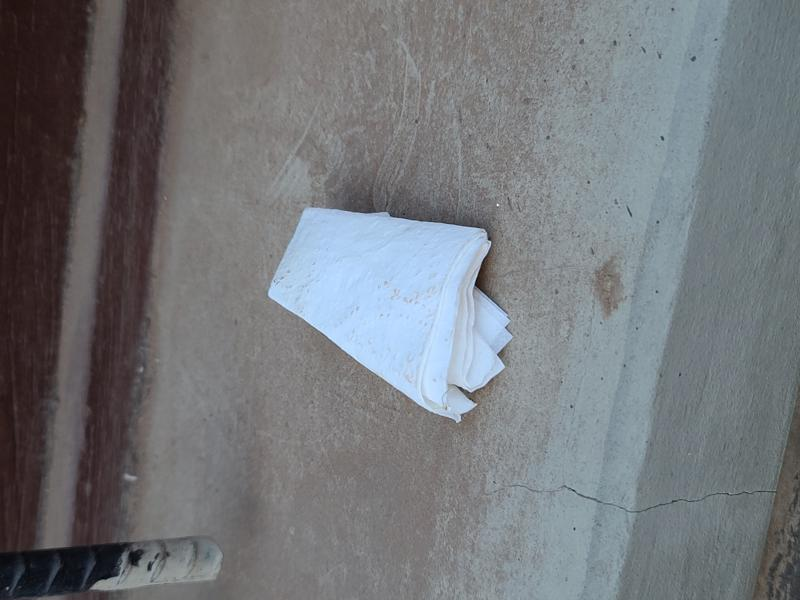papel: (267, 208, 513, 422)
